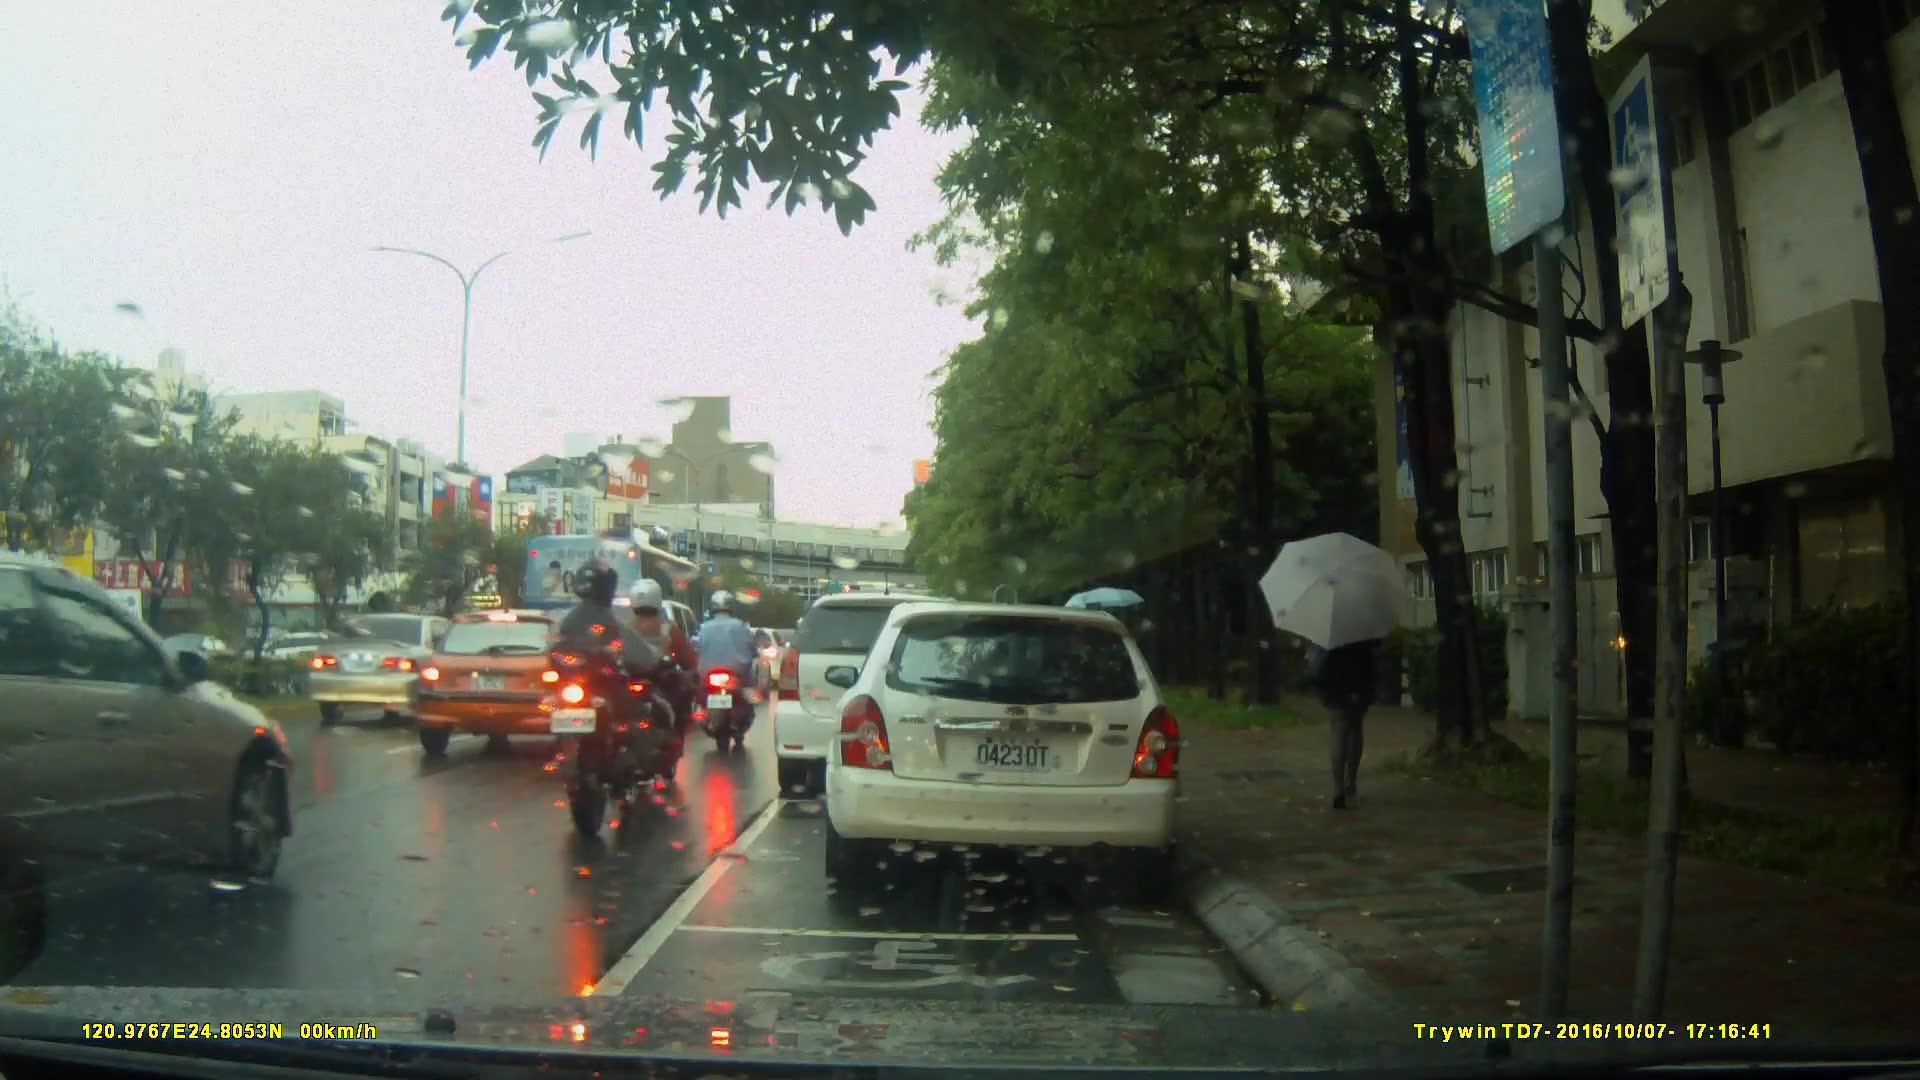pedestrian: (1286, 547, 1408, 809), (1081, 590, 1108, 736)
rider: (532, 565, 665, 834), (619, 576, 704, 790), (683, 583, 760, 759)
vehicle: (3, 561, 294, 962), (835, 594, 1194, 898), (776, 590, 1026, 784), (408, 607, 634, 764), (522, 531, 715, 669), (304, 612, 496, 730)
